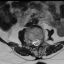CCS_normal: (34, 37, 38, 47)
LFS_normal: (41, 37, 43, 46)
LLS_normal: (38, 38, 40, 45)
RFS_normal: (29, 38, 32, 46)
RLS_normal: (32, 38, 34, 47)
